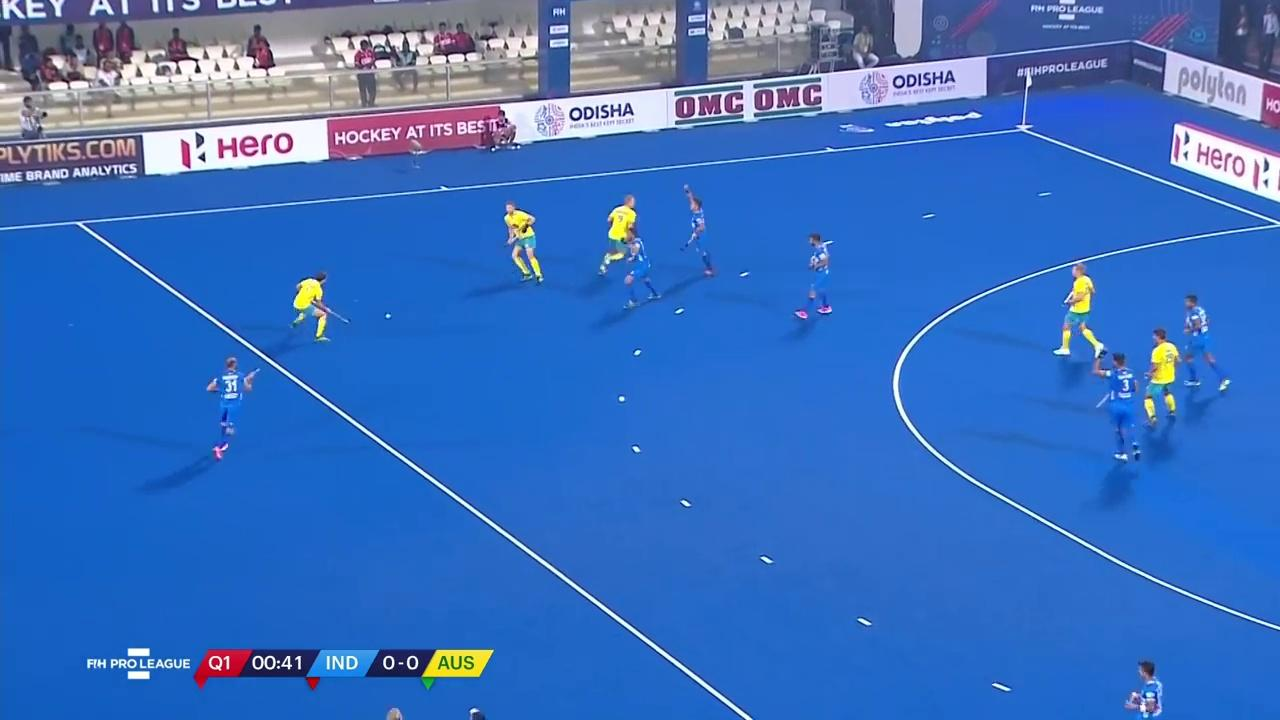ball: (381, 311, 396, 323)
